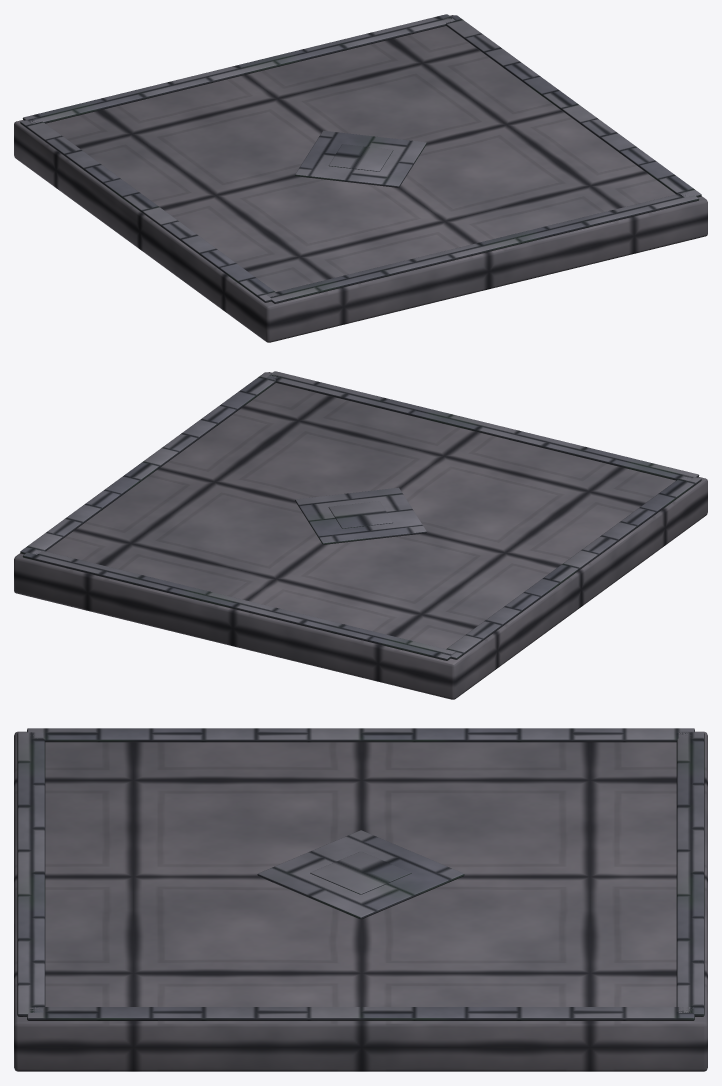
Rendered from floor_tile.glb.
The picture shows the model from 3 angles, top to bottom: view 1: azimuth 30°, elevation 25°; view 2: azimuth 150°, elevation 25°; view 3: azimuth 270°, elevation 25°; orthographic projection. The views are drawn at different scales.
Visible parts, largest first — view 1: FloorBase, FloorBorder.001, FloorBorder, FloorBorder.002, FloorBorder.003, MedallionOuter, MedallionInner; view 2: FloorBase, FloorBorder, FloorBorder.001, FloorBorder.003, FloorBorder.002, MedallionOuter, MedallionInner; view 3: FloorBase, FloorBorder.003, FloorBorder.002, FloorBorder.001, FloorBorder, MedallionOuter, MedallionInner.
Part boxes in pixels (x1,y1,x2,y2): FloorBase: [14, 15, 707, 342]; FloorBorder.001: [266, 192, 699, 303]; FloorBorder: [22, 14, 455, 123]; FloorBorder.002: [443, 15, 701, 197]; FloorBorder.003: [20, 117, 275, 302]; MedallionOuter: [295, 130, 426, 187]; MedallionInner: [328, 144, 393, 171]; FloorBase: [14, 372, 707, 699]; FloorBorder: [22, 550, 455, 660]; FloorBorder.001: [266, 371, 699, 480]; FloorBorder.003: [444, 475, 701, 659]; FloorBorder.002: [20, 372, 276, 554]; MedallionOuter: [295, 487, 426, 544]; MedallionInner: [328, 501, 393, 528]; FloorBase: [14, 731, 707, 1071]; FloorBorder.003: [27, 728, 694, 742]; FloorBorder.002: [27, 1007, 694, 1020]; FloorBorder.001: [17, 732, 45, 1016]; FloorBorder: [676, 732, 704, 1016]; MedallionOuter: [257, 830, 464, 919]; MedallionInner: [310, 851, 411, 894].
Bounding box in the file's own units: 4 × 0.346 × 4.
Materials: 3 (3 with a texture image).
